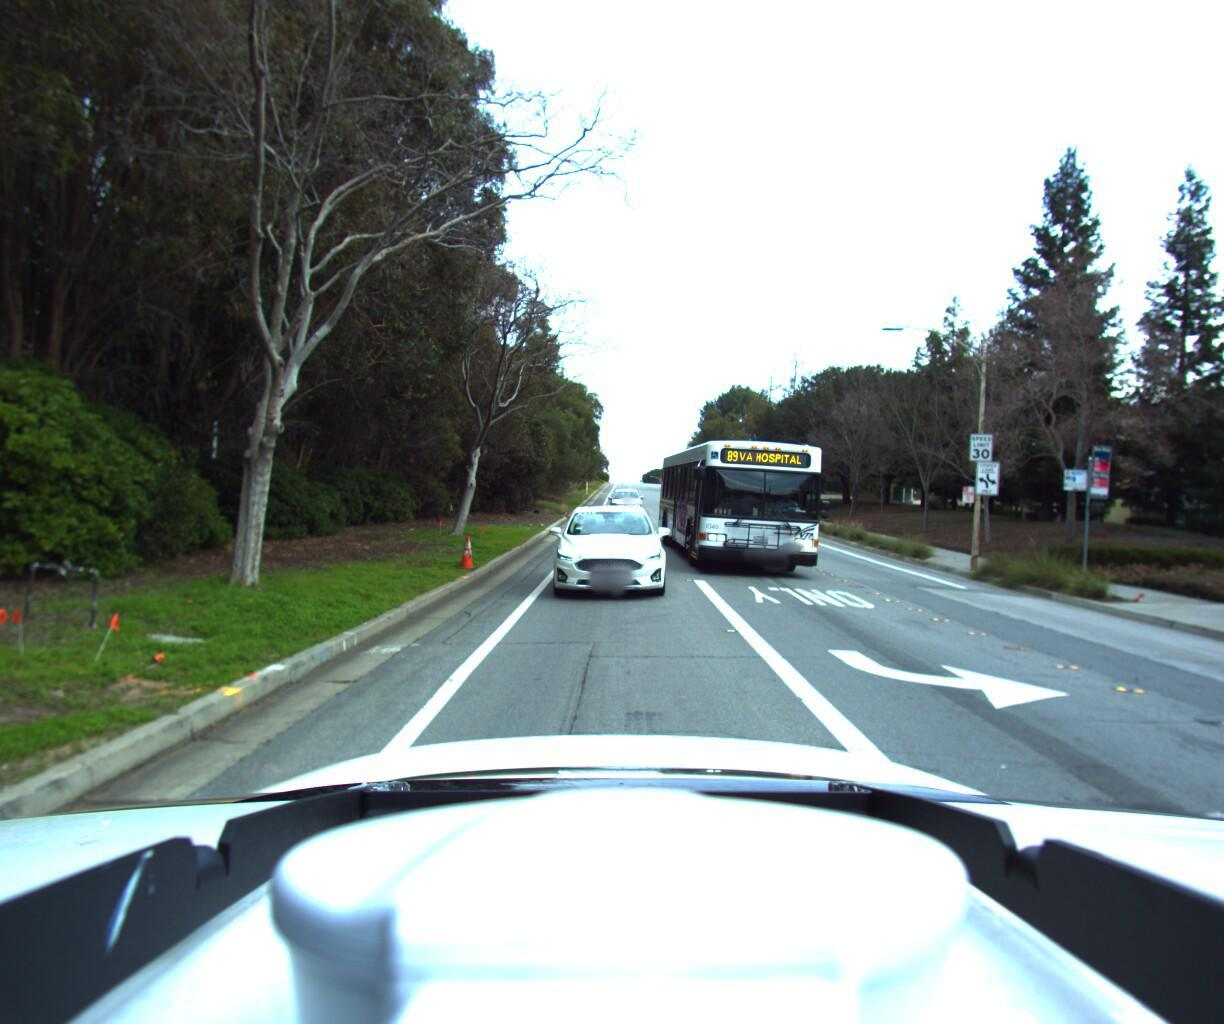bus: (648, 418, 848, 581)
car: (537, 493, 673, 603), (607, 487, 645, 519)
